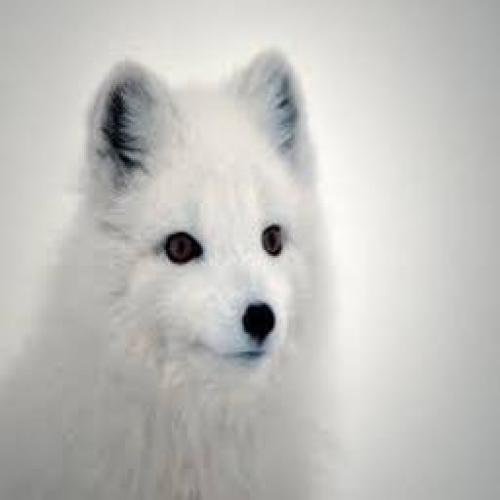arctic_fox-endangered: (10, 46, 357, 500)
